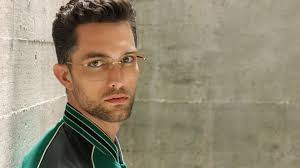g.y: (119, 52, 146, 75)
